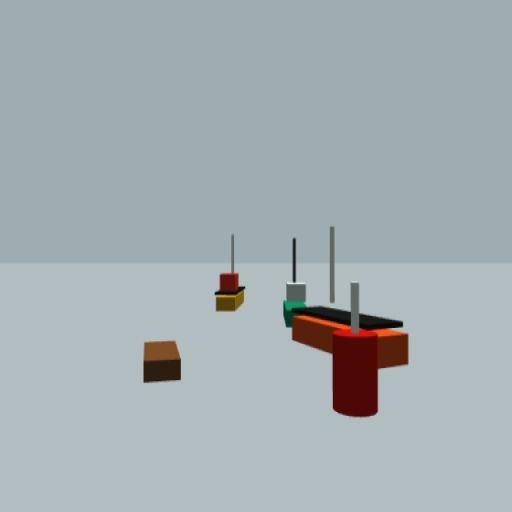debris_container: (142, 338, 182, 384)
fishing_boat: (283, 236, 305, 329)
floating_obstacle: (333, 281, 378, 419)
vessel: (215, 234, 247, 313)
